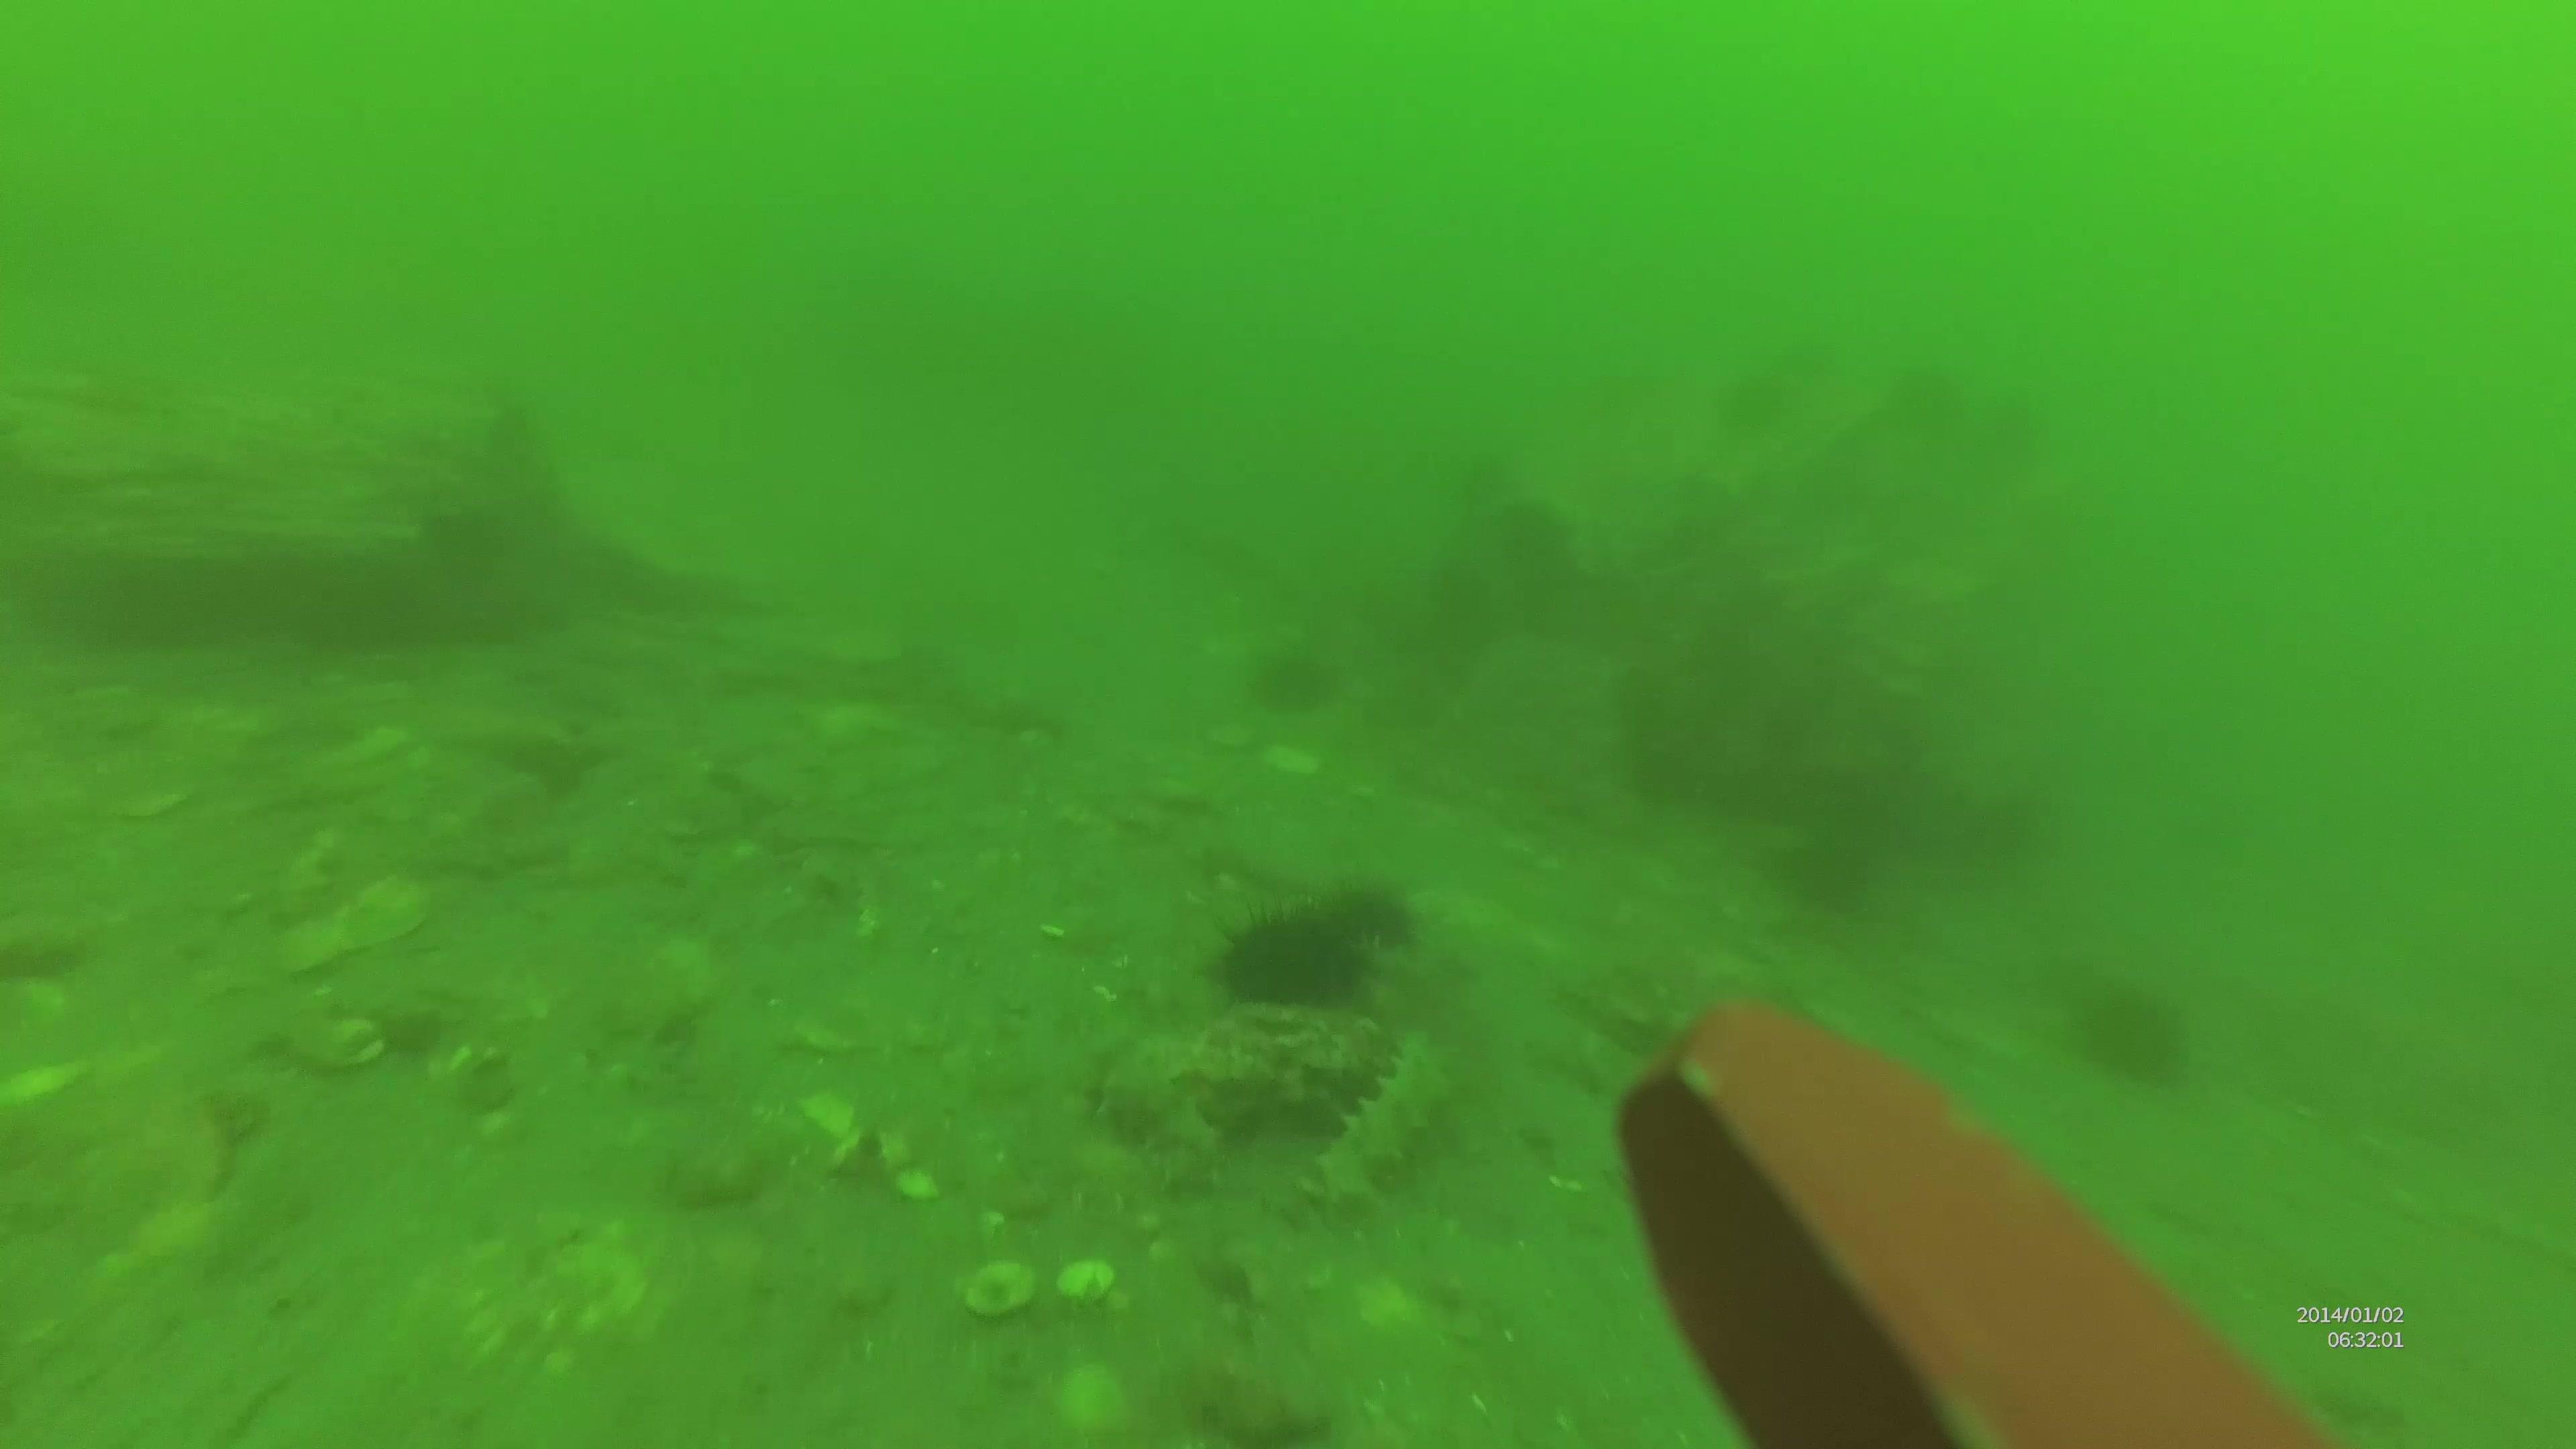echinus: (1212, 897, 1361, 1016), (2079, 989, 2197, 1086)
holothurian: (1104, 1033, 1288, 1196), (1304, 1028, 1463, 1208)
